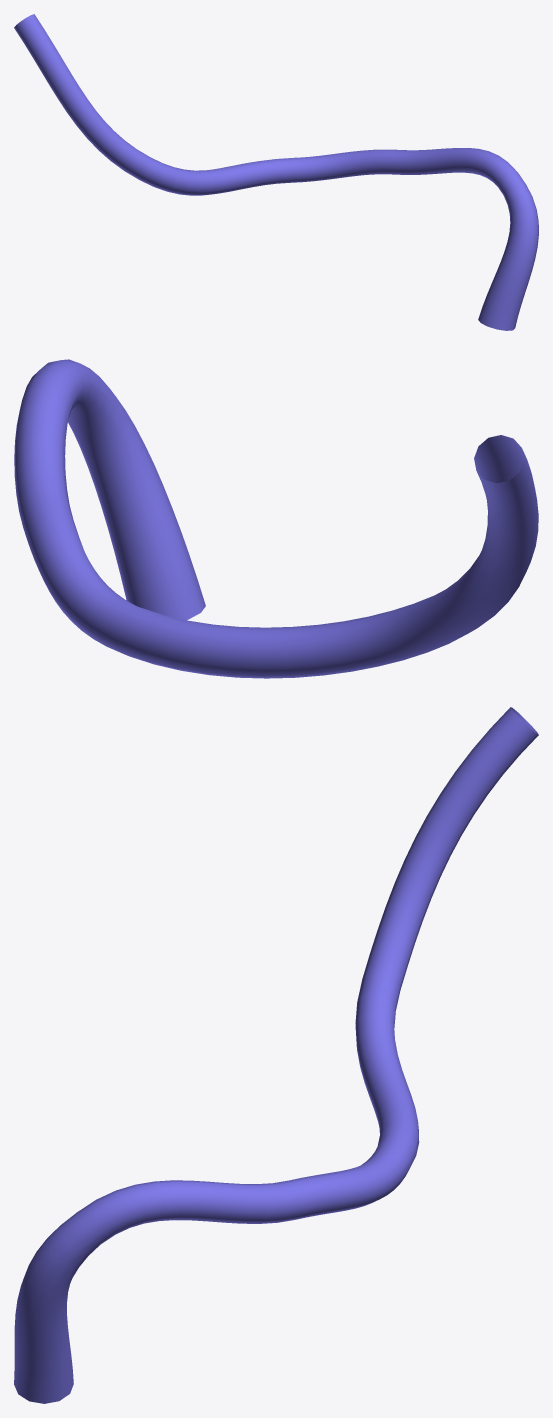
Rendered from Sigmoid_sinus.r_BezierCurve.474.glb.
3 views of the same model, one above another, from view 1: azimuth 30°, elevation 25°; view 2: azimuth 150°, elevation 25°; view 3: azimuth 270°, elevation 25° (orthographic). The views are drawn at different scales.
Visible parts, largest first — view 1: Sigmoid_sinus.r_BezierCurve.474; view 2: Sigmoid_sinus.r_BezierCurve.474; view 3: Sigmoid_sinus.r_BezierCurve.474.
Part boxes in pixels (box(x1,y1,x2,y2)): Sigmoid_sinus.r_BezierCurve.474: box(14, 14, 538, 330); Sigmoid_sinus.r_BezierCurve.474: box(14, 359, 538, 678); Sigmoid_sinus.r_BezierCurve.474: box(14, 707, 538, 1403).
Size of the model in its own units: 0.0338 by 0.0244 by 0.0263.
